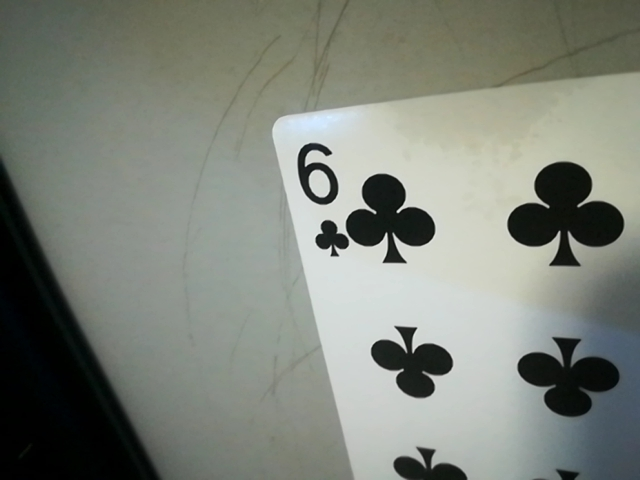mh 6: (286, 129, 351, 264)
